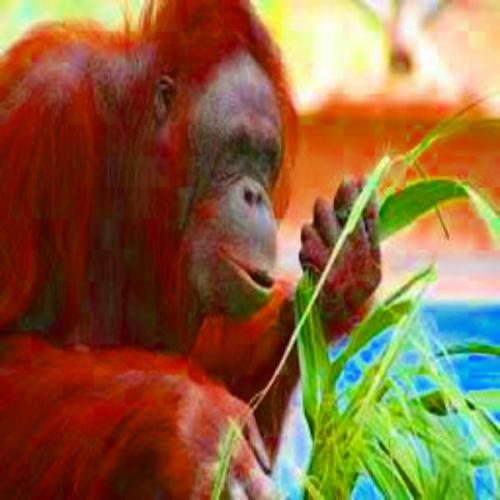orangutan-endangered: (1, 19, 376, 498)
